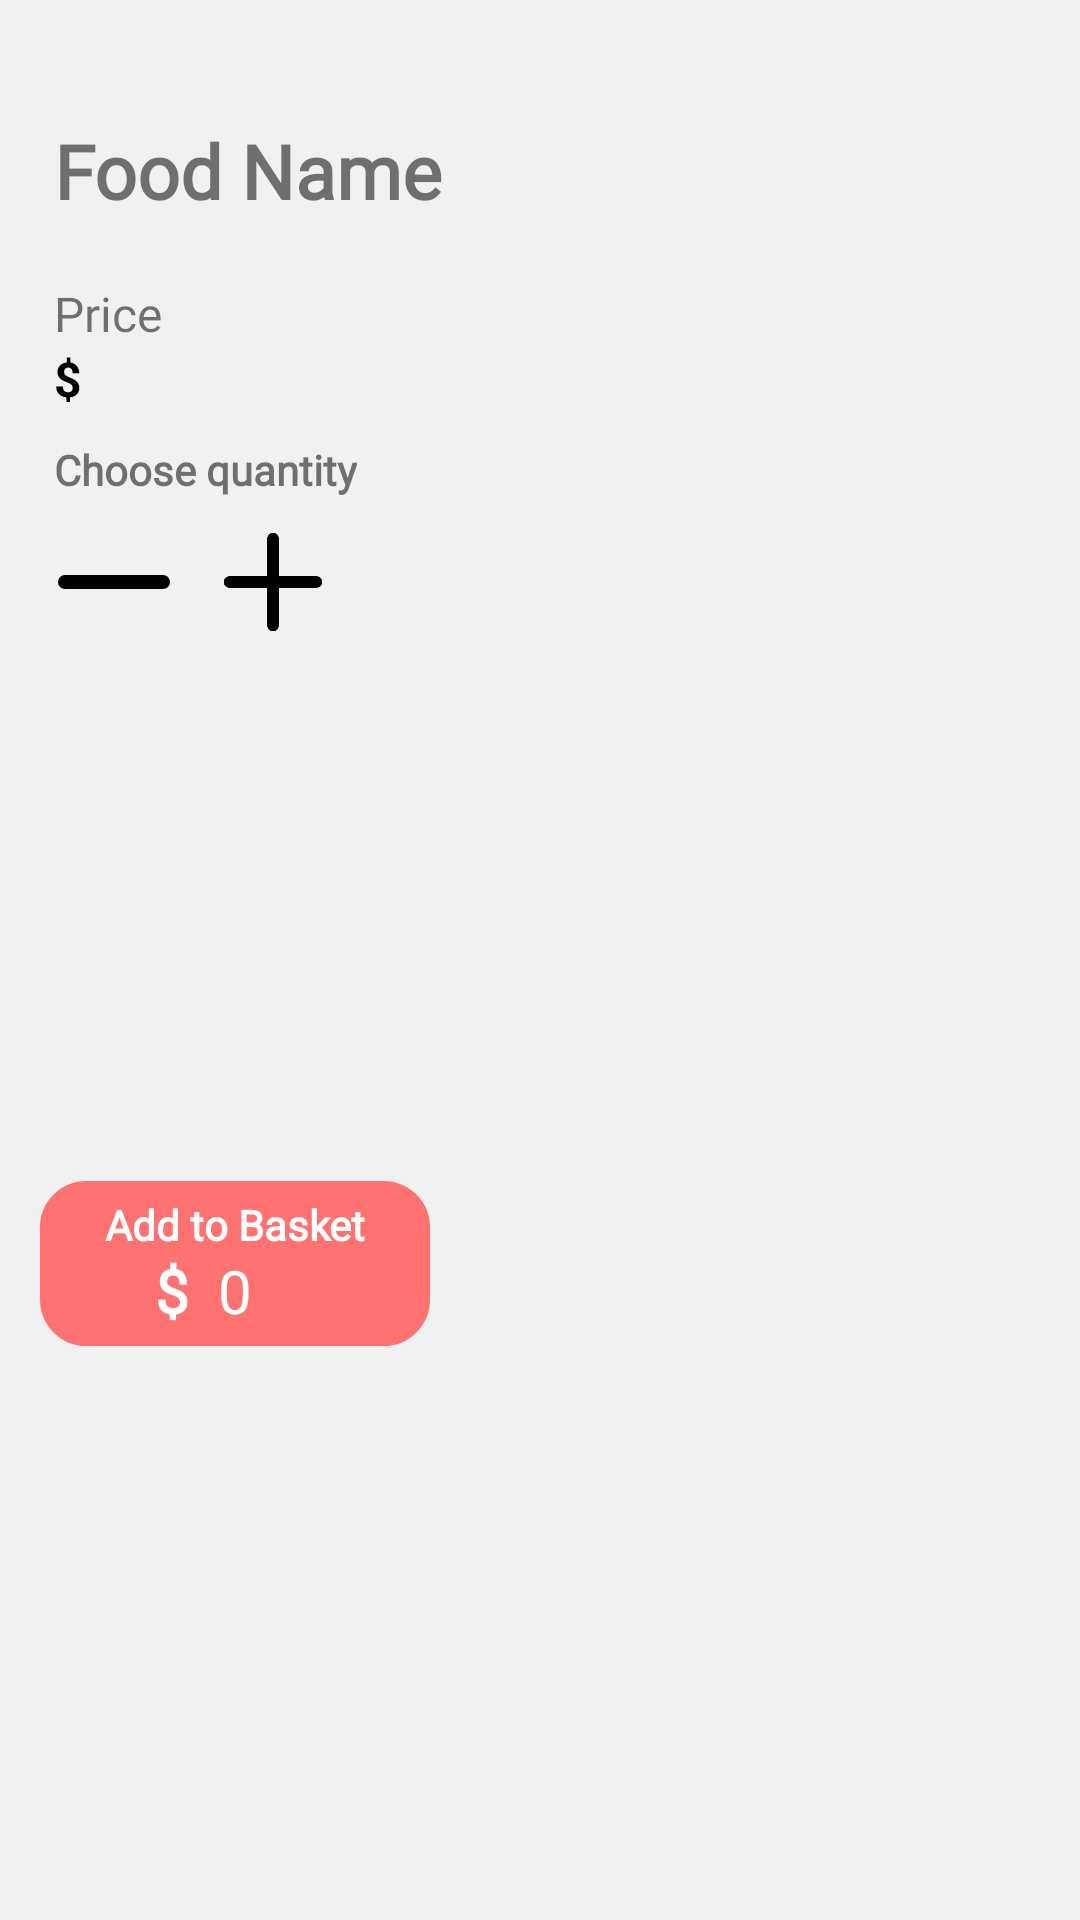

Where to tap for icons on this 1080*1920 app screen, as [x,y]:
add: [273,582]
